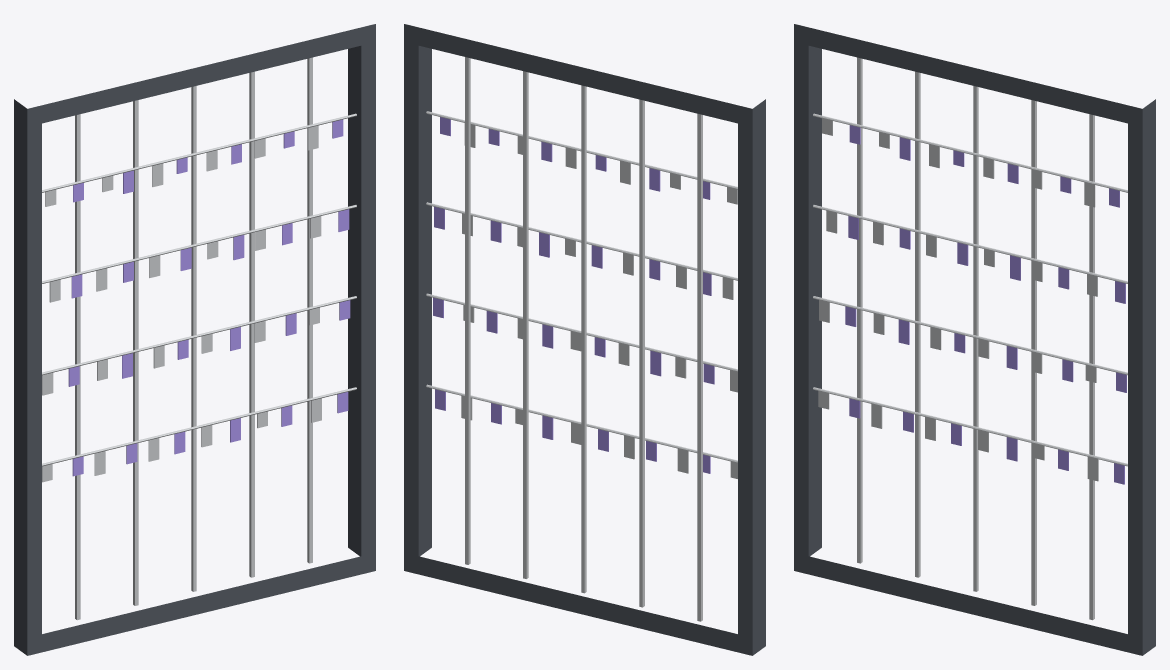
Rendered from ext_memorial_tag_rack_04.glb.
3 views of the same model, side by side, from view 1: azimuth 30°, elevation 25°; view 2: azimuth 150°, elevation 25°; view 3: azimuth 330°, elevation 25° (orthographic).
Visible parts, largest first — view 1: Panel_Frame, Grid_Verticals, Tags_Violet, Tags_Ti, Wires; view 2: Panel_Frame, Grid_Verticals, Tags_Violet, Tags_Ti, Wires; view 3: Panel_Frame, Grid_Verticals, Tags_Violet, Tags_Ti, Wires.
Boxes of the visible parts, <box> form: Panel_Frame: <box>14,24,375,655</box>; Grid_Verticals: <box>75,57,312,620</box>; Tags_Violet: <box>68,119,350,476</box>; Tags_Ti: <box>42,125,321,482</box>; Wires: <box>42,113,356,466</box>; Panel_Frame: <box>404,24,765,655</box>; Grid_Verticals: <box>465,57,702,621</box>; Tags_Violet: <box>433,117,714,473</box>; Tags_Ti: <box>461,123,737,478</box>; Wires: <box>426,111,737,462</box>; Panel_Frame: <box>794,24,1155,655</box>; Grid_Verticals: <box>857,57,1094,620</box>; Tags_Violet: <box>845,125,1126,484</box>; Tags_Ti: <box>818,118,1098,481</box>; Wires: <box>813,113,1127,466</box>.
Bounding box in the file's own units: 1.2 × 1.8 × 0.08.
